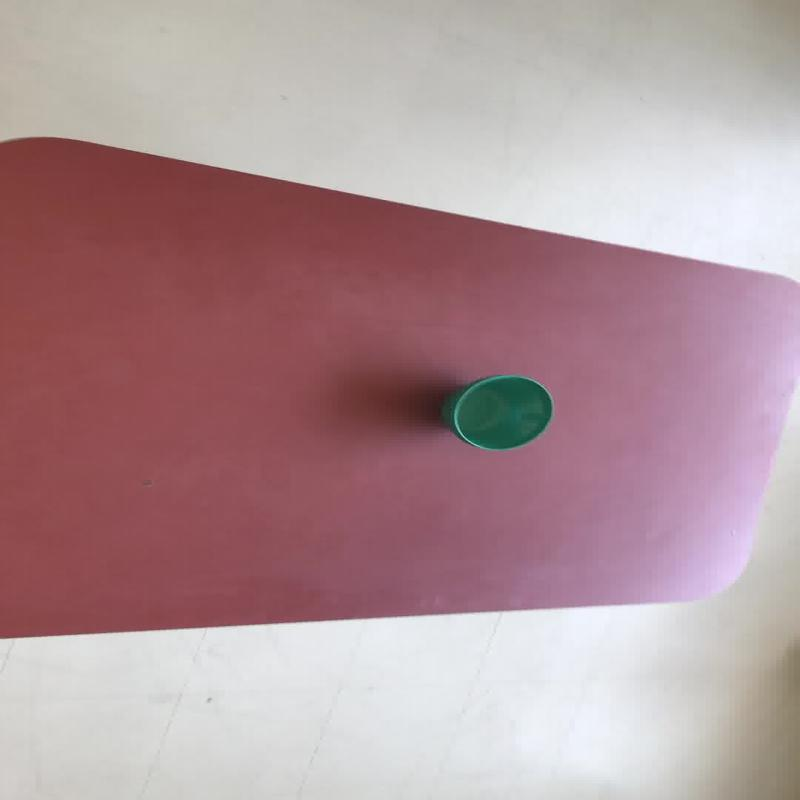bowl: (2, 135, 798, 638), (444, 374, 553, 450)
